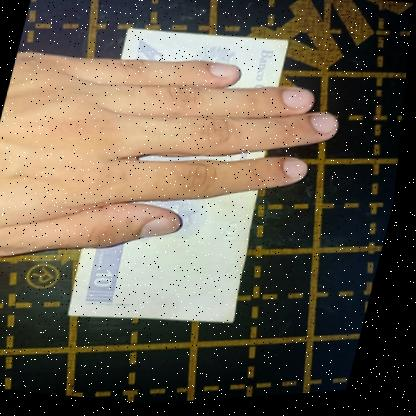ten-back-vef: (57, 17, 305, 346)
